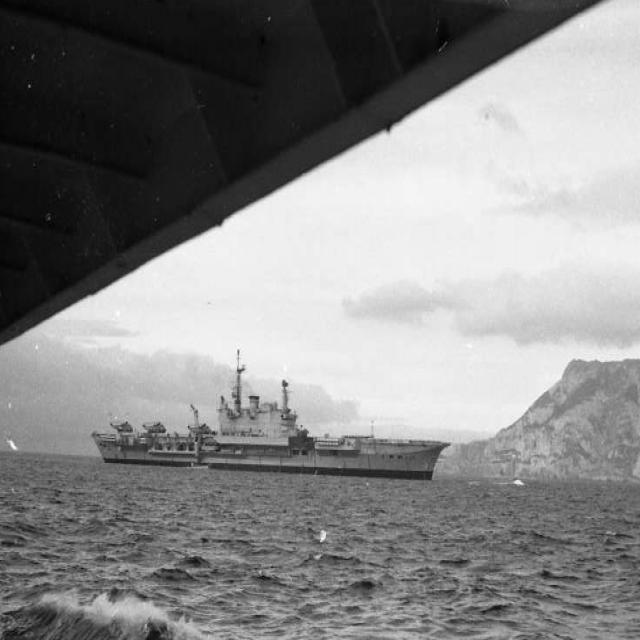Portanaves: (90, 341, 457, 485)
